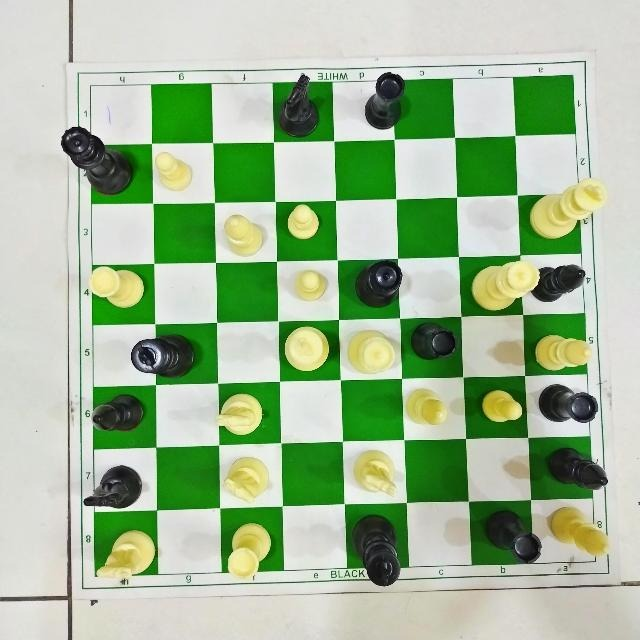black-bishop: (543, 442, 611, 494), (536, 256, 589, 308), (88, 391, 148, 433)
black-king: (349, 510, 409, 587), (128, 332, 197, 382)
black-knight: (274, 72, 322, 139), (83, 463, 149, 510)
black-queen: (57, 124, 134, 197), (353, 258, 403, 309)
black-rook: (482, 506, 543, 569), (536, 380, 601, 427), (362, 70, 406, 133), (408, 320, 459, 364)
white-bishop: (549, 501, 613, 559), (531, 333, 595, 374), (218, 210, 267, 258), (404, 387, 450, 431)
white-king: (530, 174, 610, 245), (282, 325, 334, 373)
white-knight: (92, 524, 157, 583), (222, 450, 272, 505), (352, 447, 402, 499), (215, 391, 269, 438)
white-pawn: (151, 147, 192, 193), (476, 387, 523, 426), (283, 201, 322, 242), (292, 265, 328, 302)
white-queen: (468, 255, 540, 314), (346, 327, 396, 379)
white-rook: (224, 514, 276, 580), (87, 264, 147, 312)
